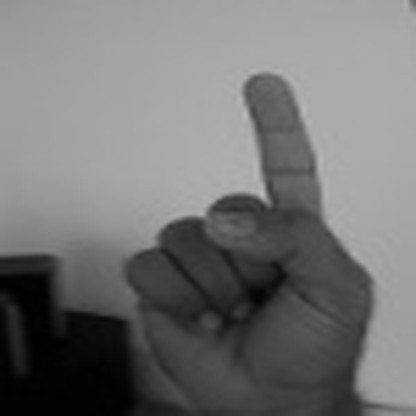d: (122, 63, 378, 398)
